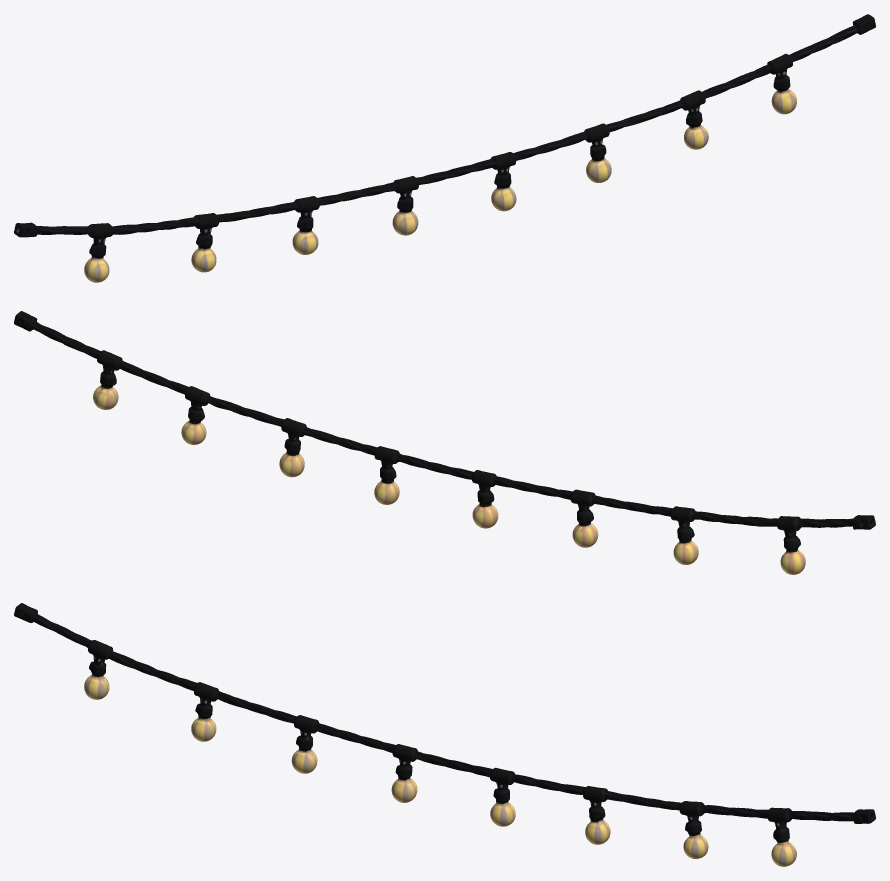
File: bunting.glb
3 renders of one model, top to bottom at view 1: azimuth 30°, elevation 25°; view 2: azimuth 150°, elevation 25°; view 3: azimuth 330°, elevation 25°, orthographic.
Visible parts, largest first — view 1: mesh_node; view 2: mesh_node; view 3: mesh_node.
Boxes of the visible parts, box(x1,y1,x2,y2) form: mesh_node: box(14, 14, 875, 282); mesh_node: box(14, 311, 875, 574); mesh_node: box(14, 603, 875, 866).
Size of the model in its own units: 1.9 by 0.2205 by 0.056.
Materials: 1 (1 with a texture image).
